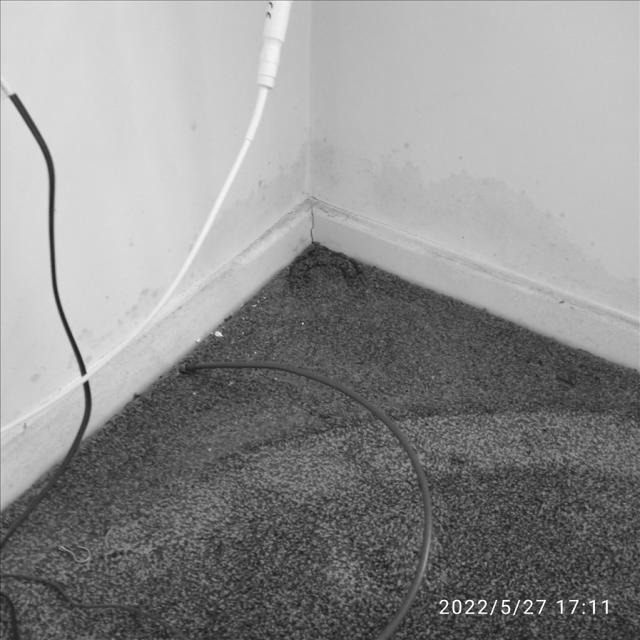stain marks: (306, 61, 640, 342), (77, 154, 306, 366), (181, 94, 216, 151), (7, 364, 51, 392)
